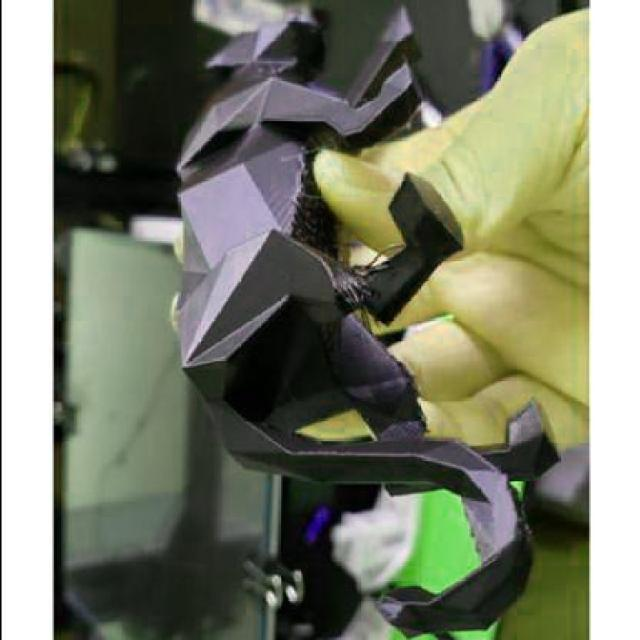Spaghetti: (326, 242, 397, 331)
